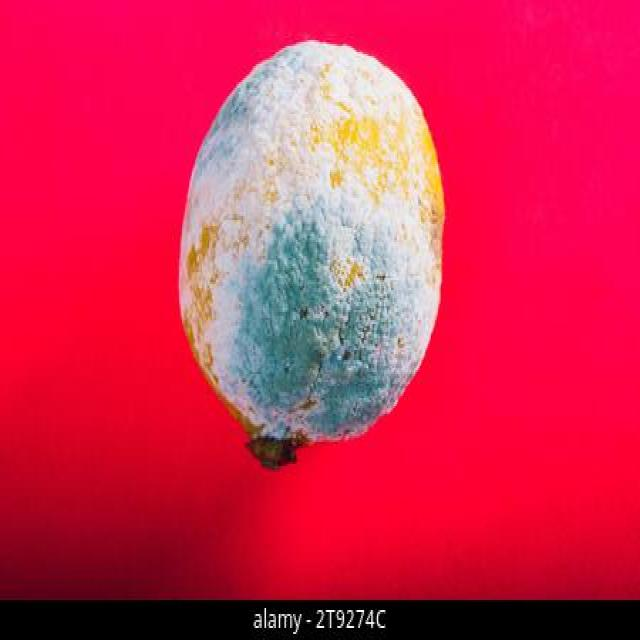Rotten: (174, 41, 446, 472)
